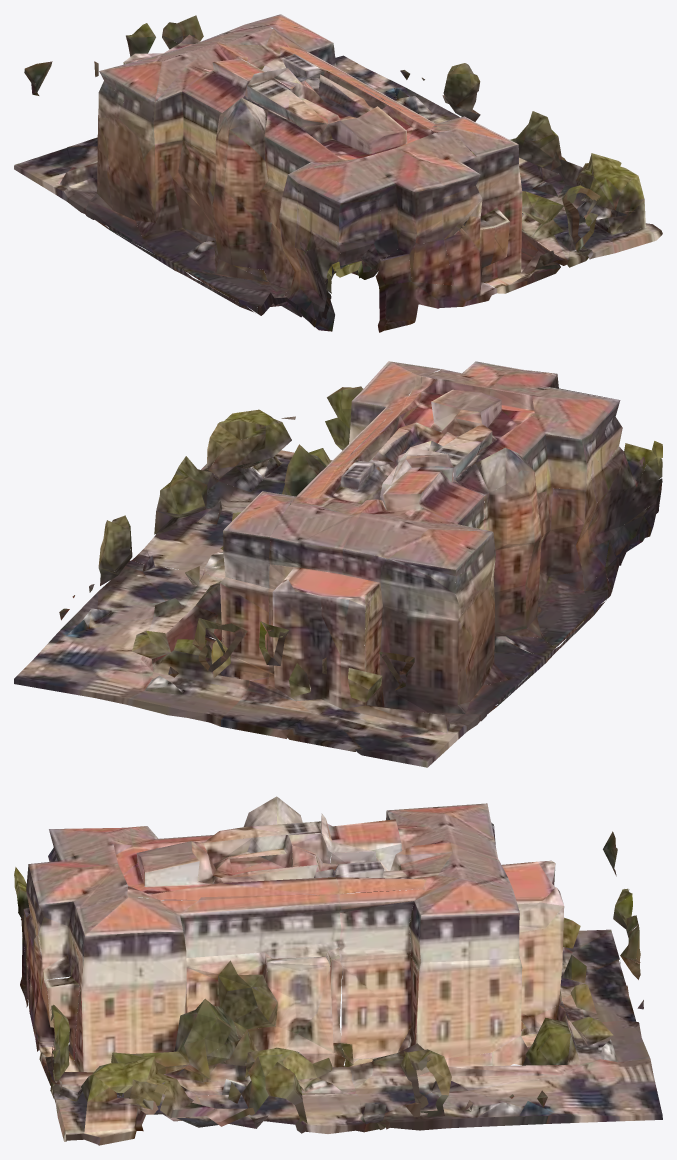
The picture shows the model from 3 angles, top to bottom: view 1: azimuth 30°, elevation 25°; view 2: azimuth 150°, elevation 25°; view 3: azimuth 270°, elevation 25°; orthographic projection. The views are drawn at different scales.
Visible parts, largest first — view 1: Mesh_0; view 2: Mesh_0; view 3: Mesh_0.
Boxes of the visible parts, box(x1,y1,x2,y2) form: Mesh_0: box(14, 14, 662, 332); Mesh_0: box(14, 361, 662, 767); Mesh_0: box(14, 796, 662, 1145).
Size of the model in its own units: 66.84 by 27.71 by 82.37.
Materials: 2 (2 with a texture image).
